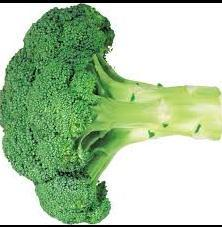broccoli: (0, 3, 221, 224)
